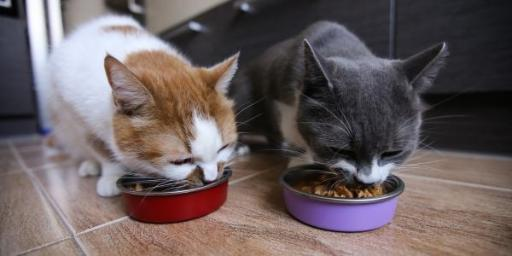cat_eating: (45, 15, 448, 230)
